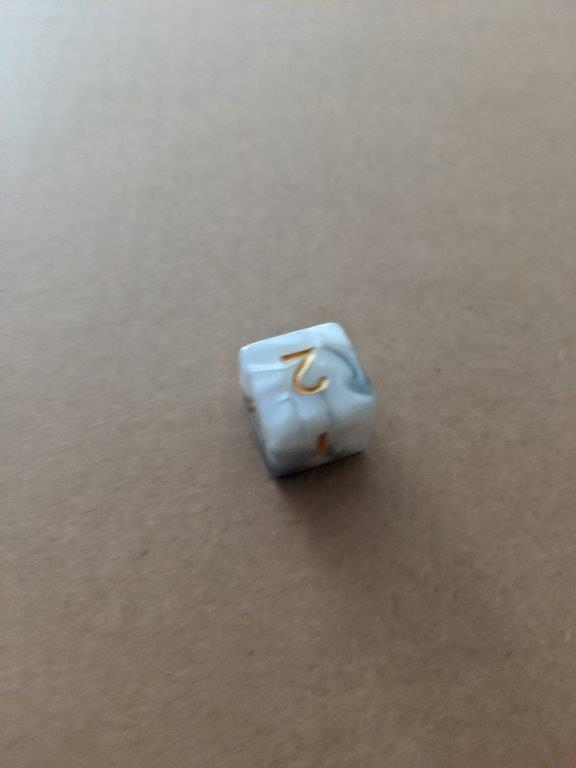d6-2: (239, 321, 377, 480)
